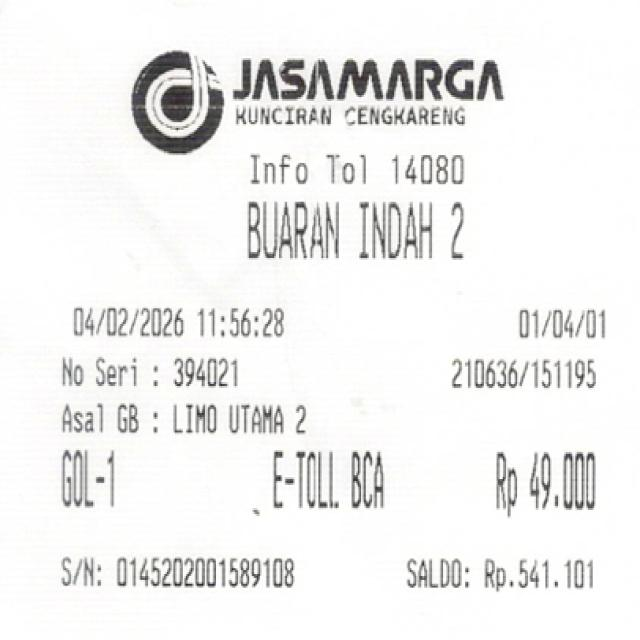date: (65, 299, 294, 343)
store: (226, 51, 508, 137)
total: (475, 434, 610, 524)
